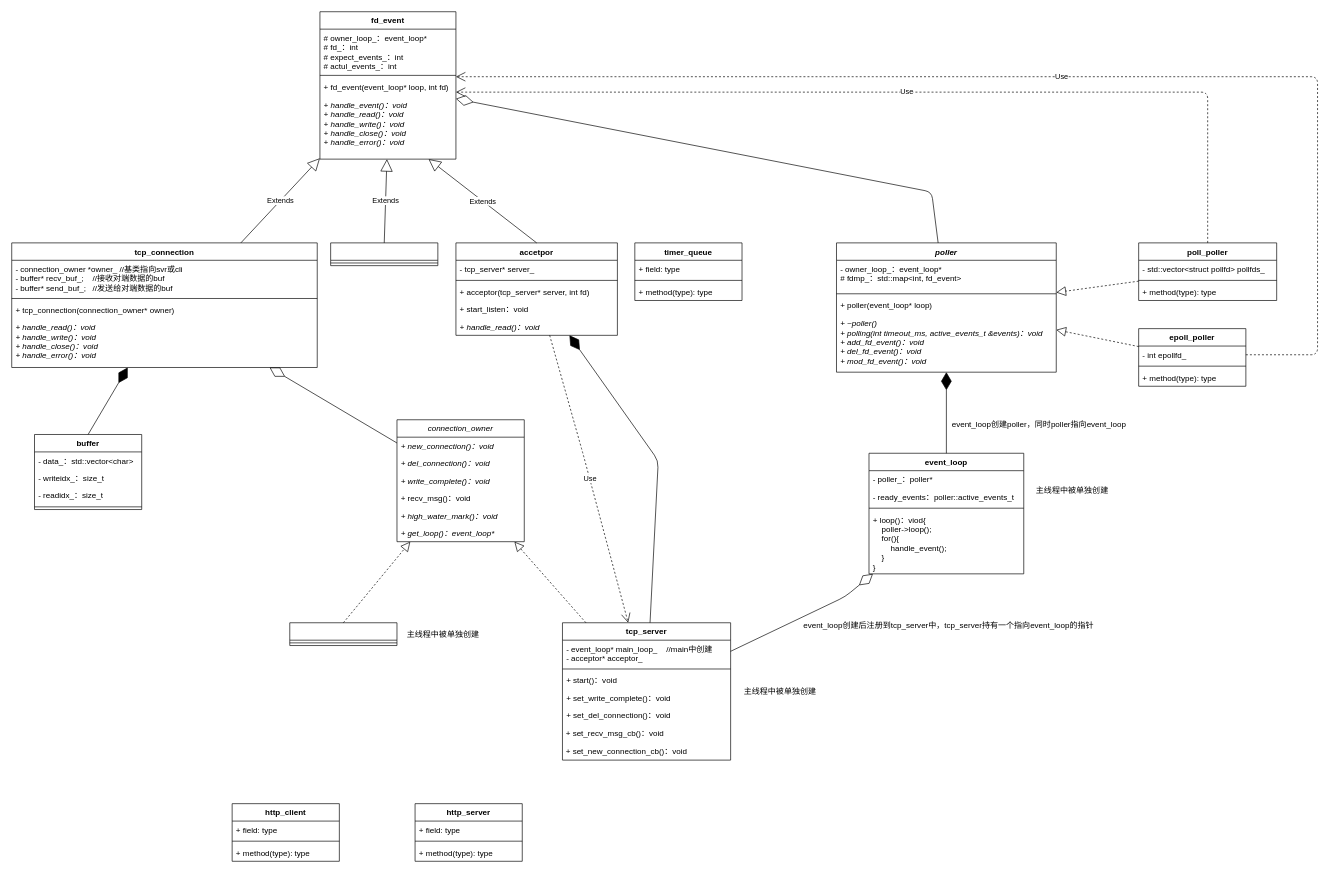
This 1339x875 diagram has some shape labels left out. Here are the shapes that lost their labels. From the top down, the centre of each, then its label:
At (384,254): "connector".
At (343,634): "tcp_client".
